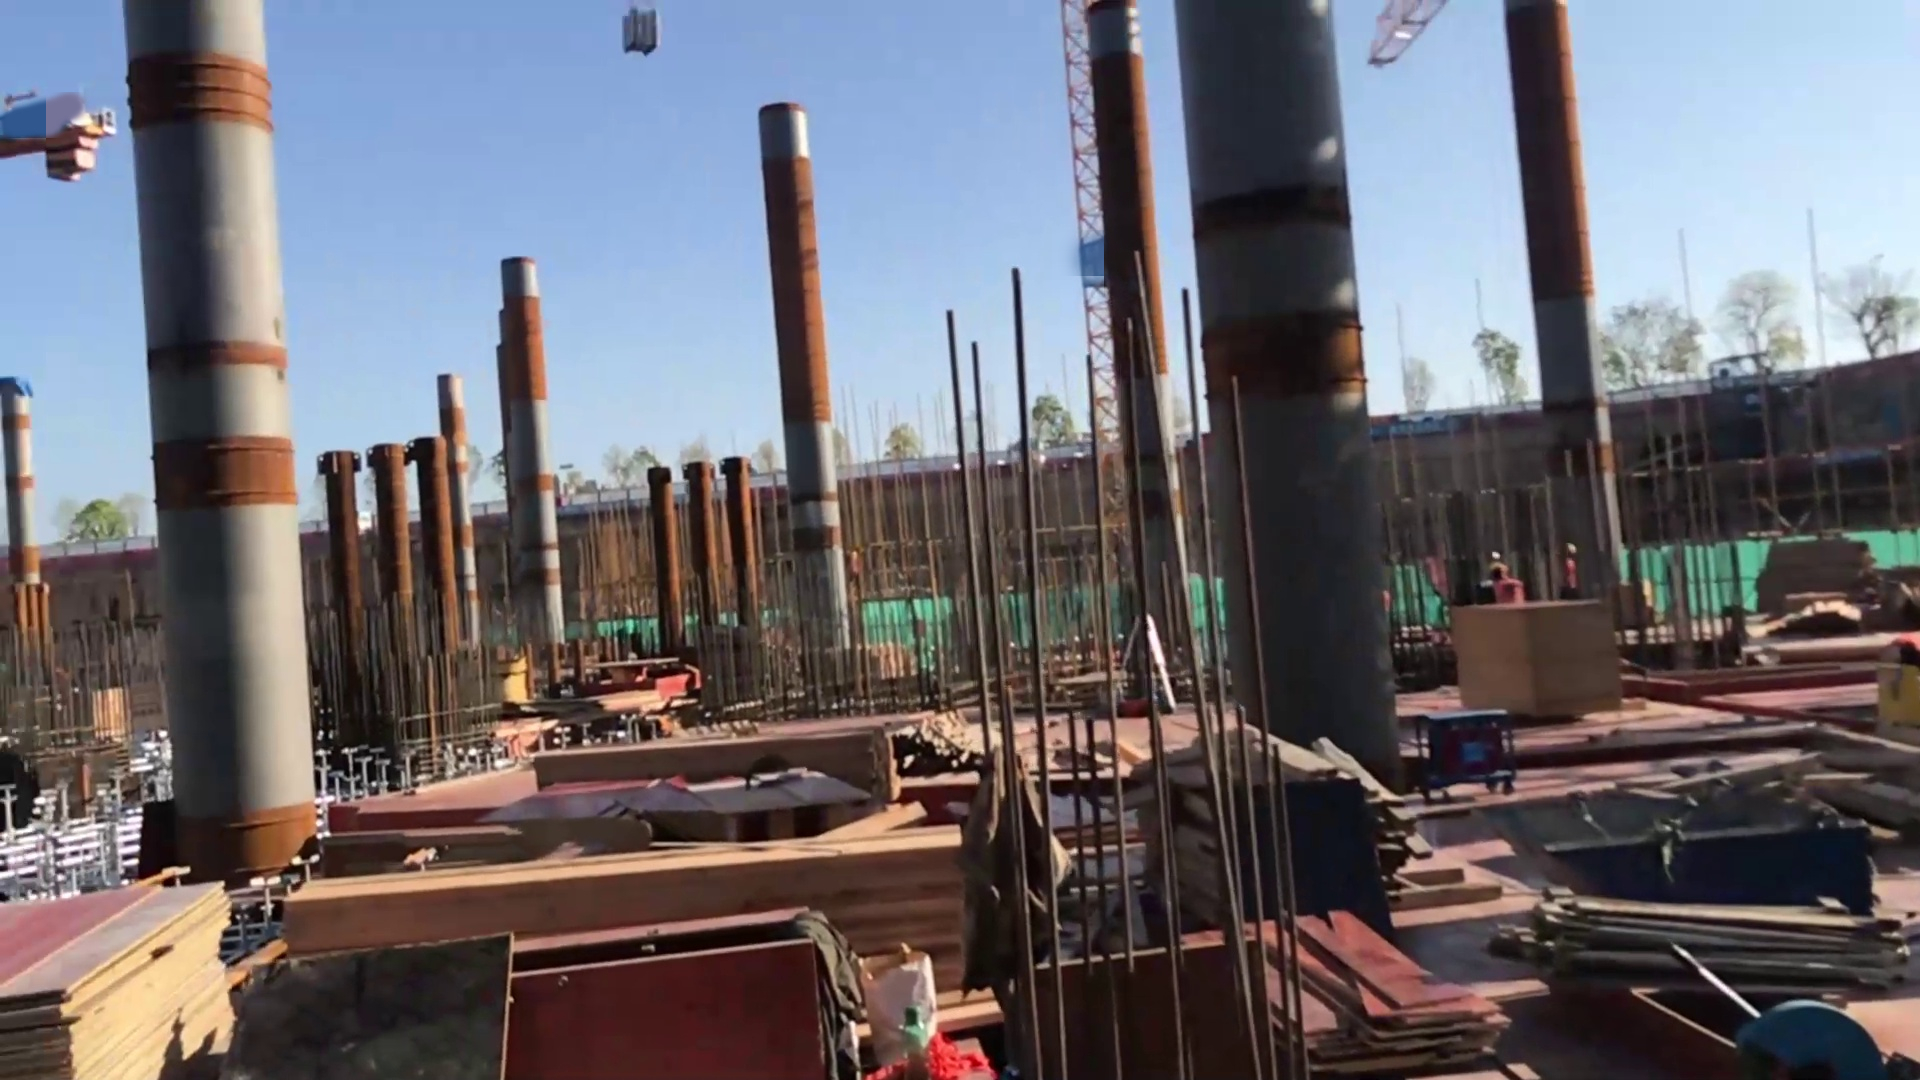board: (1201, 897, 1506, 1076), (1, 873, 236, 1076), (1528, 895, 1909, 985)
wood: (291, 824, 961, 1001), (533, 727, 897, 795)
